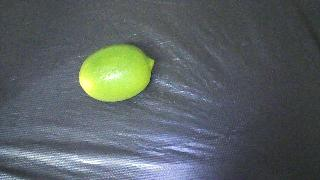LOCAL: (79, 44, 154, 102)
